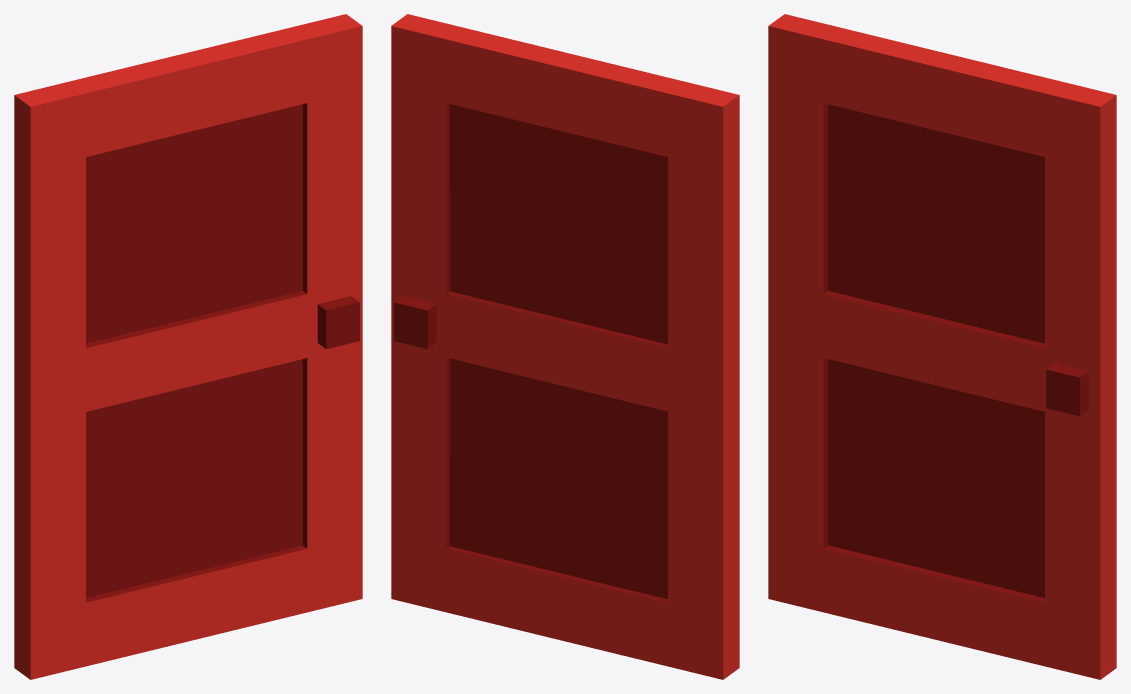
The model's file is exitDoor_rot.fbx.
3 renders of one model, left to right at view 1: azimuth 30°, elevation 25°; view 2: azimuth 150°, elevation 25°; view 3: azimuth 330°, elevation 25°, orthographic.
Visible parts, largest first — view 1: Cube.001; view 2: Cube.001; view 3: Cube.001.
Part boxes in pixels (box(x1,y1,x2,y2)): Cube.001: box(14, 14, 362, 679); Cube.001: box(391, 14, 739, 679); Cube.001: box(768, 14, 1116, 679).
Size of the model in its own units: 546 by 900 by 96.87.
